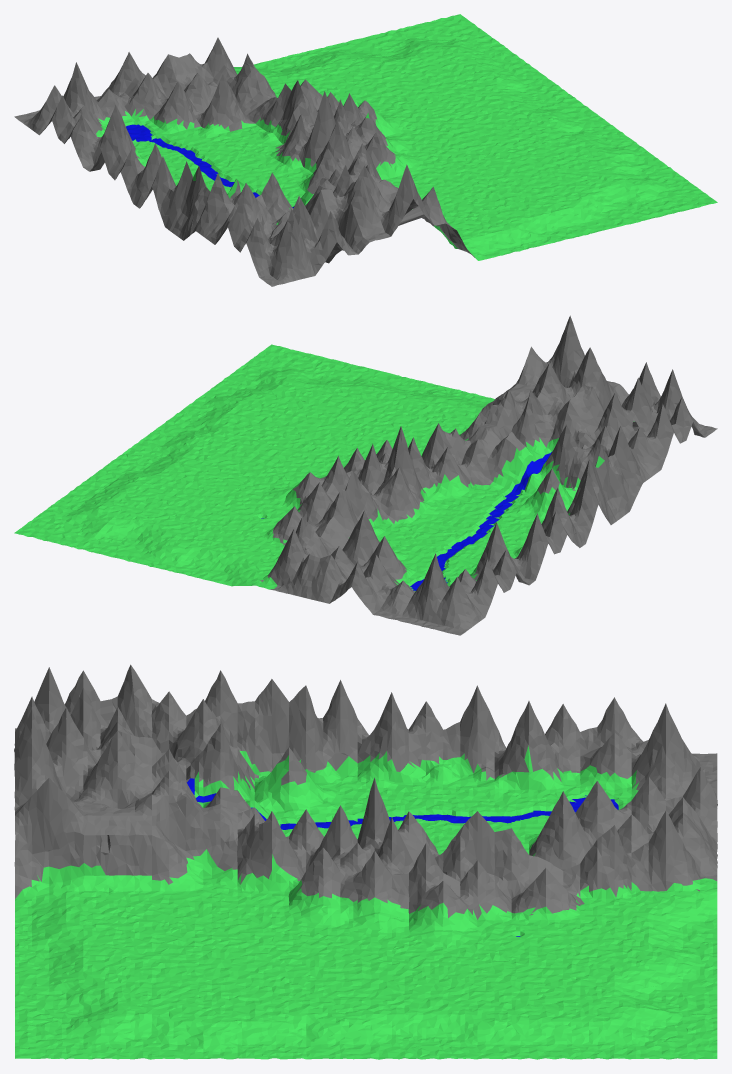
File: Level 3 Low res.fbx
3 views of the same model, one above another, from view 1: azimuth 30°, elevation 25°; view 2: azimuth 150°, elevation 25°; view 3: azimuth 270°, elevation 25° (orthographic). The views are drawn at different scales.
Parts seen in each view (by area): view 1: Plane; view 2: Plane; view 3: Plane.
Boxes of the visible parts, box(x1,y1,x2,y2) form: Plane: box(14, 14, 717, 286); Plane: box(14, 315, 717, 635); Plane: box(14, 664, 717, 1059).
Size of the model in its own units: 2002 by 467 by 2004.
